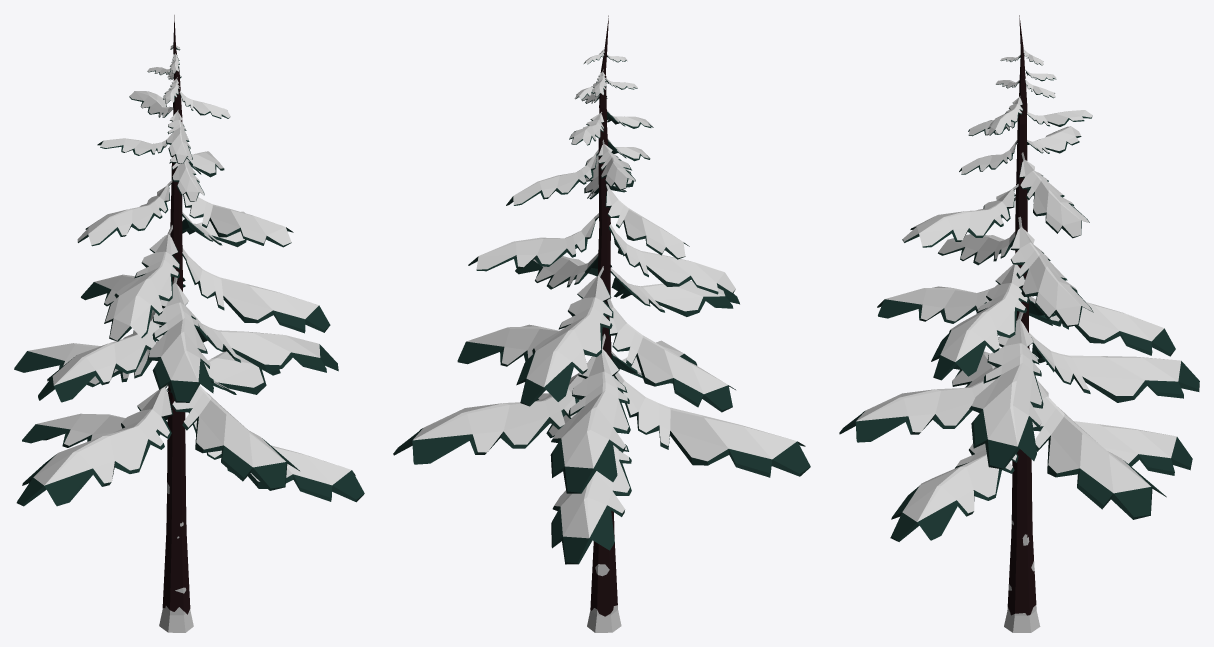
File: pine_with_leaves1.fbx
3 renders of one model, left to right at view 1: azimuth 30°, elevation 25°; view 2: azimuth 150°, elevation 25°; view 3: azimuth 270°, elevation 25°, orthographic.
Parts seen in each view (by area): view 1: tree with leaves; view 2: tree with leaves; view 3: tree with leaves.
Part boxes in pixels (x1,y1,x2,y2): tree with leaves: [14, 15, 364, 632]; tree with leaves: [393, 15, 810, 632]; tree with leaves: [839, 15, 1199, 632].
Bounding box in the file's own units: 2509 × 4429 × 2370.
